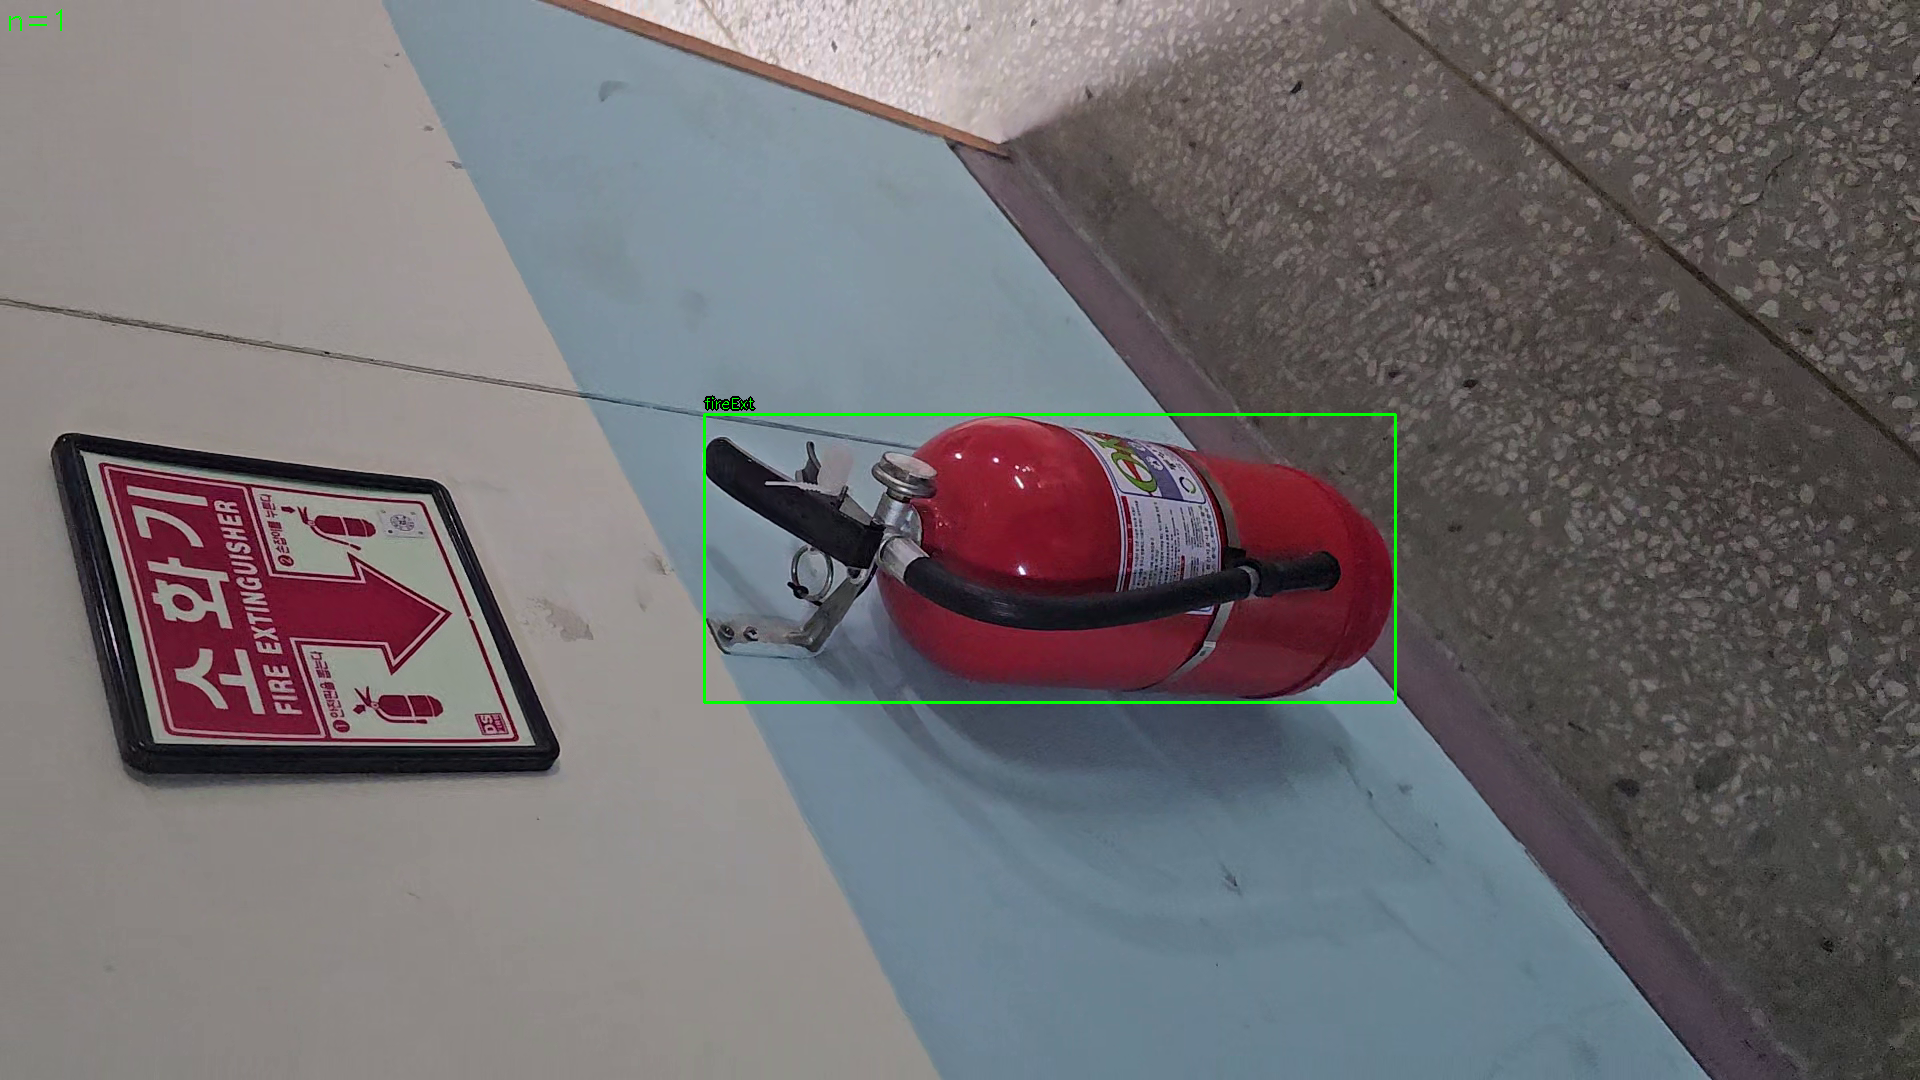lane: (704, 414, 1396, 703)
